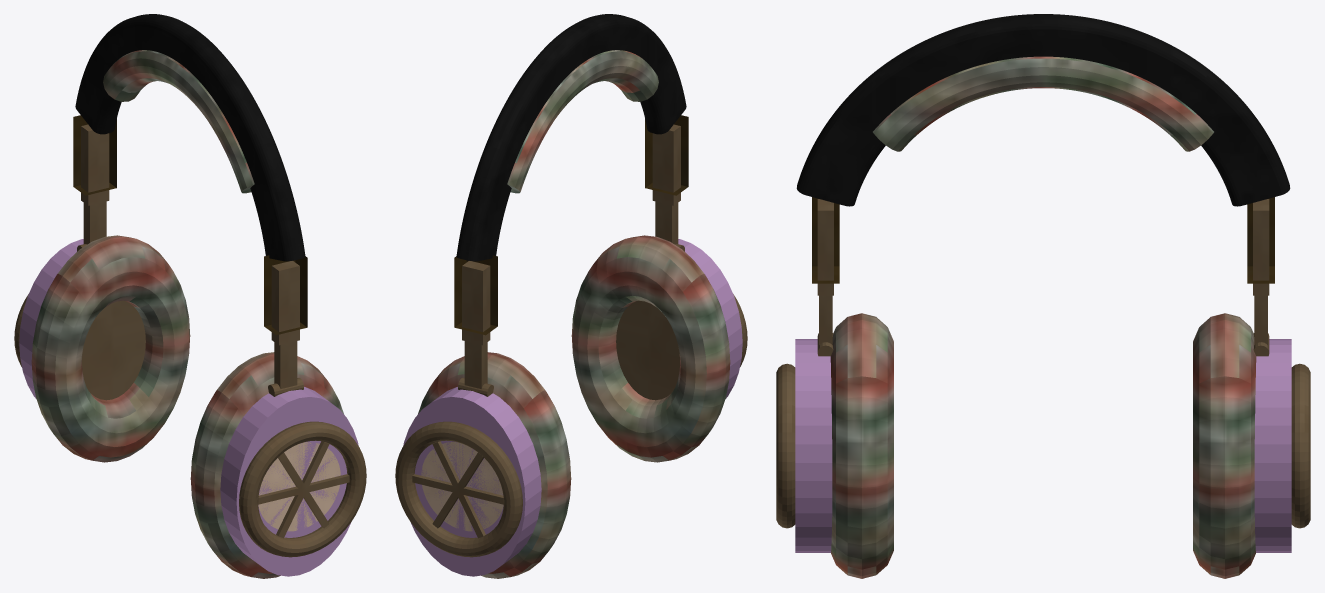
The model's file is Music_Headphone__0197.glb.
3 views of the same model, side by side, from view 1: azimuth 30°, elevation 25°; view 2: azimuth 150°, elevation 25°; view 3: azimuth 270°, elevation 25° (orthographic). The views are drawn at different scales.
Parts seen in each view (by area): view 1: left_cup::left_cup_pad, band::band_shell, right_cup::right_cup_shell, right_cup::right_cup_pad, right_cup::right_cup_ring, band::band_pad, left_cup::left_cup_cap, right_cup::right_cup_driver, right_cup::right_cup_bars, left_cup::left_cup_shell, right_slider::right_slider_bar, left_slider::left_slider_bar (+4 smaller); view 2: right_cup::right_cup_pad, band::band_shell, left_cup::left_cup_shell, left_cup::left_cup_pad, left_cup::left_cup_ring, band::band_pad, right_cup::right_cup_cap, left_cup::left_cup_driver, left_cup::left_cup_bars, right_cup::right_cup_shell, left_slider::left_slider_bar, right_slider::right_slider_bar (+4 smaller); view 3: band::band_shell, left_cup::left_cup_pad, right_cup::right_cup_pad, band::band_pad, left_cup::left_cup_shell, right_cup::right_cup_shell, left_cup::left_cup_ring, right_cup::right_cup_ring, left_slider::left_slider_bar, right_slider::right_slider_bar, band::housing_l, band::housing_r (+2 smaller).
Boxes of the visible parts, x1,y1,x2,y2 form: left_cup::left_cup_pad: [31, 235, 190, 462]; band::band_shell: [75, 14, 305, 261]; right_cup::right_cup_shell: [220, 387, 358, 576]; right_cup::right_cup_pad: [190, 352, 343, 578]; right_cup::right_cup_ring: [239, 421, 366, 557]; band::band_pad: [103, 50, 254, 193]; left_cup::left_cup_cap: [82, 300, 145, 400]; right_cup::right_cup_driver: [258, 442, 340, 531]; right_cup::right_cup_bars: [258, 441, 349, 538]; left_cup::left_cup_shell: [19, 239, 83, 398]; right_slider::right_slider_bar: [271, 261, 299, 345]; left_slider::left_slider_bar: [81, 124, 109, 205]; right_cup::right_cup_pad: [571, 235, 730, 462]; band::band_shell: [456, 14, 686, 261]; left_cup::left_cup_shell: [403, 387, 541, 576]; left_cup::left_cup_pad: [418, 352, 571, 578]; left_cup::left_cup_ring: [395, 421, 522, 557]; band::band_pad: [507, 50, 658, 193]; right_cup::right_cup_cap: [616, 300, 679, 400]; left_cup::left_cup_driver: [421, 442, 503, 531]; left_cup::left_cup_bars: [412, 441, 503, 538]; right_cup::right_cup_shell: [678, 239, 742, 398]; left_slider::left_slider_bar: [462, 261, 490, 345]; right_slider::right_slider_bar: [652, 124, 680, 205]; band::band_shell: [796, 14, 1290, 206]; left_cup::left_cup_pad: [1193, 313, 1256, 578]; right_cup::right_cup_pad: [830, 313, 893, 578]; band::band_pad: [873, 56, 1213, 151]; left_cup::left_cup_shell: [1254, 339, 1291, 552]; right_cup::right_cup_shell: [795, 339, 832, 552]; left_cup::left_cup_ring: [1291, 363, 1310, 528]; right_cup::right_cup_ring: [776, 363, 795, 528]; left_slider::left_slider_bar: [1253, 199, 1269, 295]; right_slider::right_slider_bar: [817, 199, 833, 295]; band::housing_l: [1247, 197, 1274, 283]; band::housing_r: [812, 197, 839, 283].
Bounding box in the file's own units: 0.0718 × 0.2225 × 0.1937.
7 materials, 6 textured.
